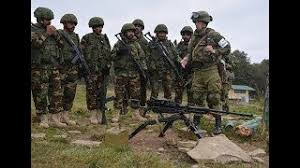gun: (134, 95, 256, 139)
uniform: (185, 25, 231, 115), (32, 9, 62, 126), (56, 22, 83, 127), (79, 29, 114, 110), (111, 30, 143, 107), (148, 34, 176, 106)
